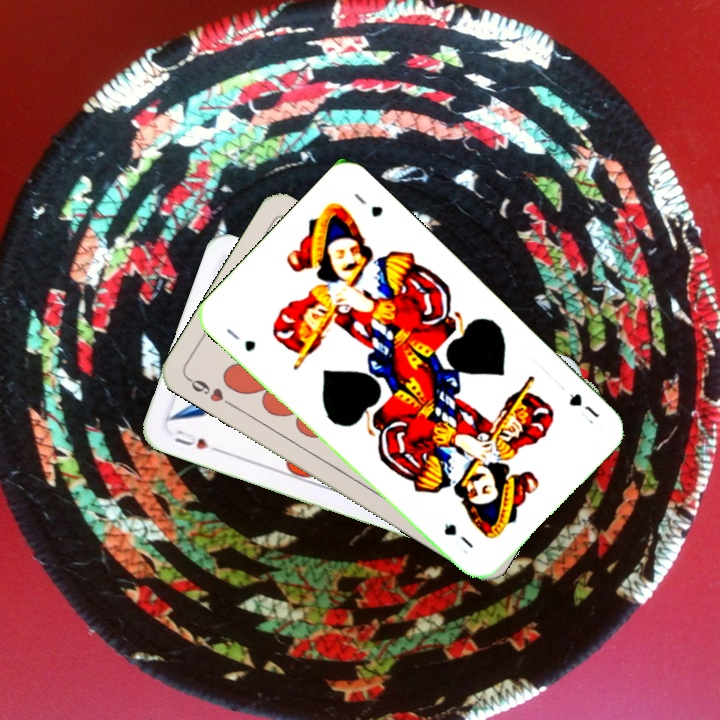GU: (565, 389, 602, 421), (222, 324, 258, 355)
H9: (183, 373, 237, 409)
HU: (171, 425, 223, 455)
